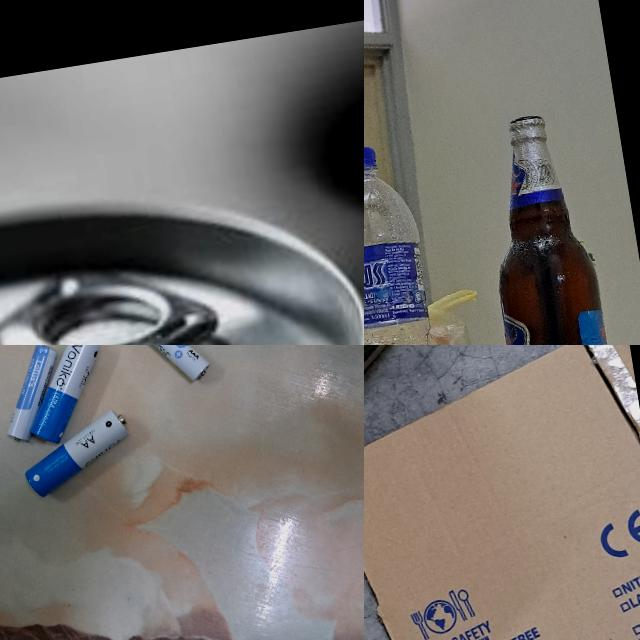aba de lata: (0, 249, 235, 345)
bateria: (16, 404, 138, 500), (14, 345, 113, 446), (0, 345, 71, 444), (124, 345, 212, 391)
garrafa de vidro: (469, 108, 627, 345)
garrafa plástica: (364, 137, 451, 345)
lata: (0, 149, 364, 345)
papelão: (364, 345, 640, 640)
tampa plástica: (364, 146, 380, 180)
